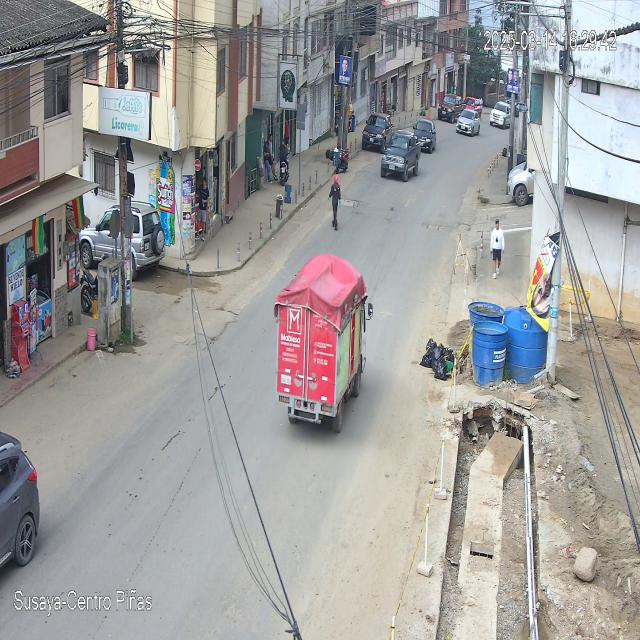TRUCK: (274, 255, 372, 438)
